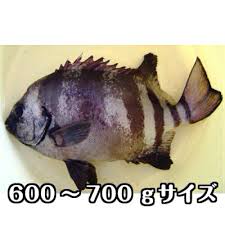azi: (5, 51, 206, 182)
